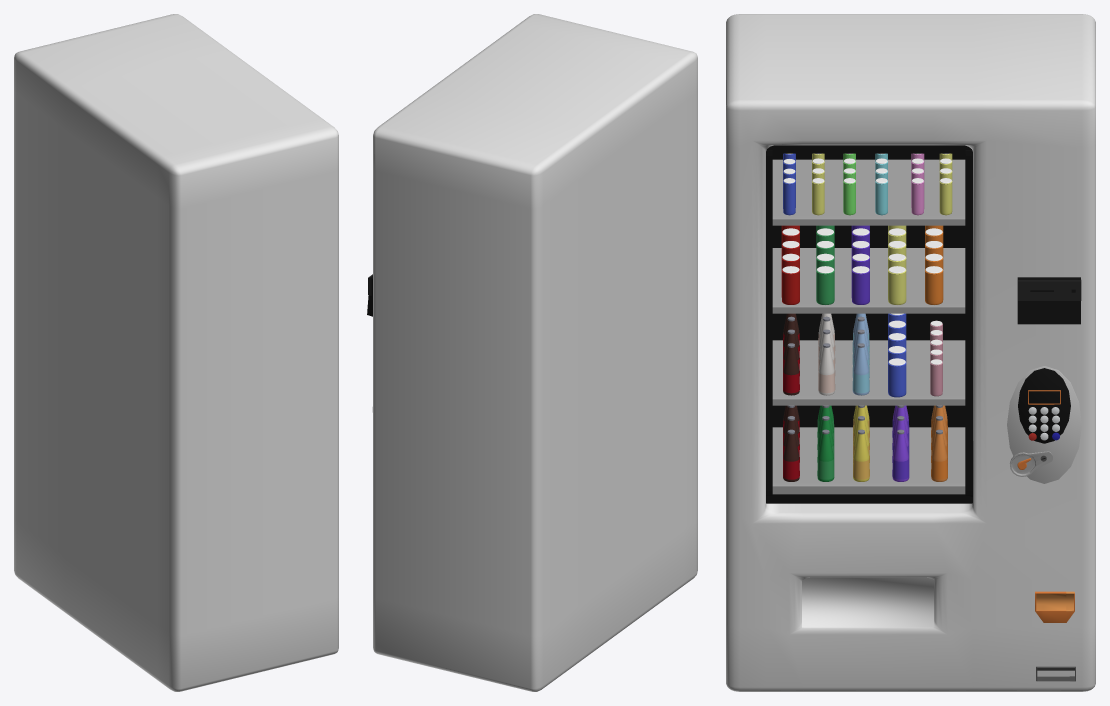
The model's file is Vending Machine.fbx.
The picture shows the model from 3 angles, left to right: view 1: azimuth 30°, elevation 25°; view 2: azimuth 150°, elevation 25°; view 3: azimuth 270°, elevation 25°; orthographic projection. The views are drawn at different scales.
Parts seen in each view (by area): view 1: Cube; view 2: Cube; view 3: Cube, Cube.011, Cube.005, Cube.002, Cube.003, Cube.004, Cube.001, Cylinder.135, Cube.015, Cylinder.006, Cube.014, Cube.017 (+12 smaller).
Part boxes in pixels (x1,y1,x2,y2): Cube: [14, 14, 338, 691]; Cube: [373, 14, 697, 691]; Cube: [726, 14, 1095, 691]; Cube.011: [772, 153, 965, 427]; Cube.005: [772, 159, 965, 225]; Cube.002: [772, 427, 965, 494]; Cube.003: [772, 340, 965, 405]; Cube.004: [772, 248, 965, 313]; Cube.001: [802, 577, 934, 627]; Cylinder.135: [1007, 366, 1081, 483]; Cube.015: [965, 149, 972, 496]; Cylinder.006: [1018, 368, 1070, 443]; Cube.014: [766, 150, 772, 495]; Cube.017: [766, 494, 972, 503].
Size of the model in its own units: 211 by 600 by 340.
